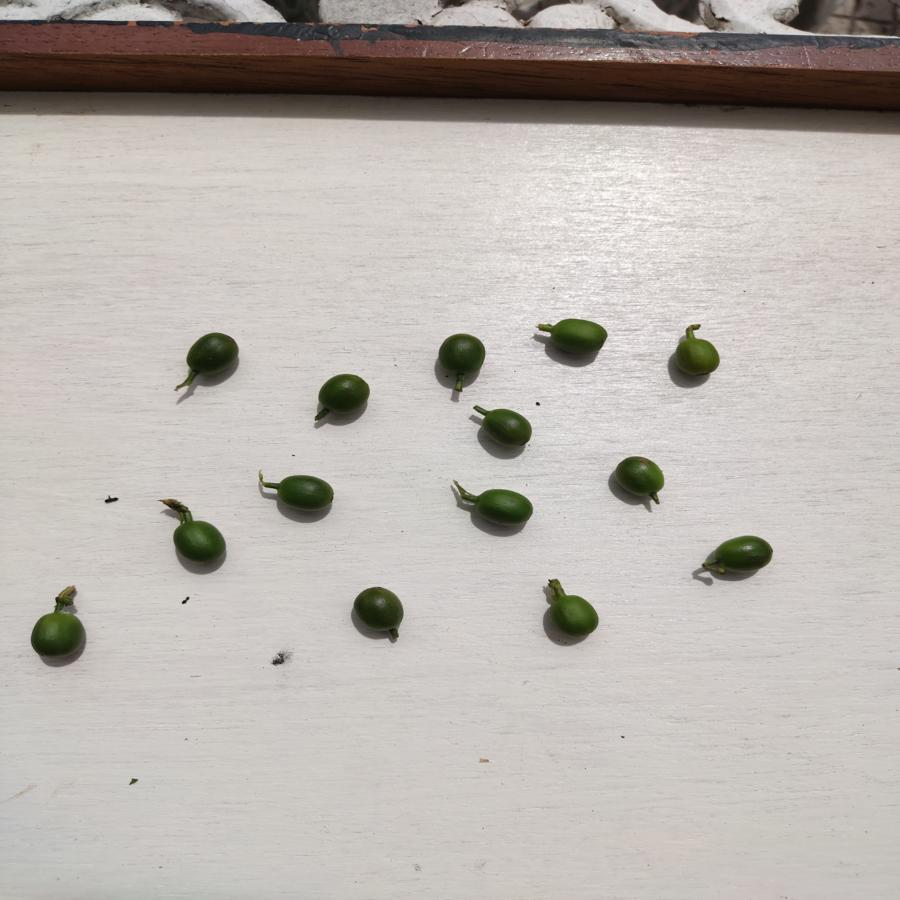Inmaduro: (30, 608, 85, 660), (550, 313, 610, 360), (475, 485, 536, 531), (609, 453, 669, 498), (353, 582, 405, 633), (478, 404, 535, 450), (667, 335, 724, 381), (278, 472, 337, 516), (715, 532, 776, 574), (185, 330, 239, 377), (317, 369, 369, 417), (171, 521, 229, 564), (546, 592, 602, 636), (436, 330, 490, 375)
